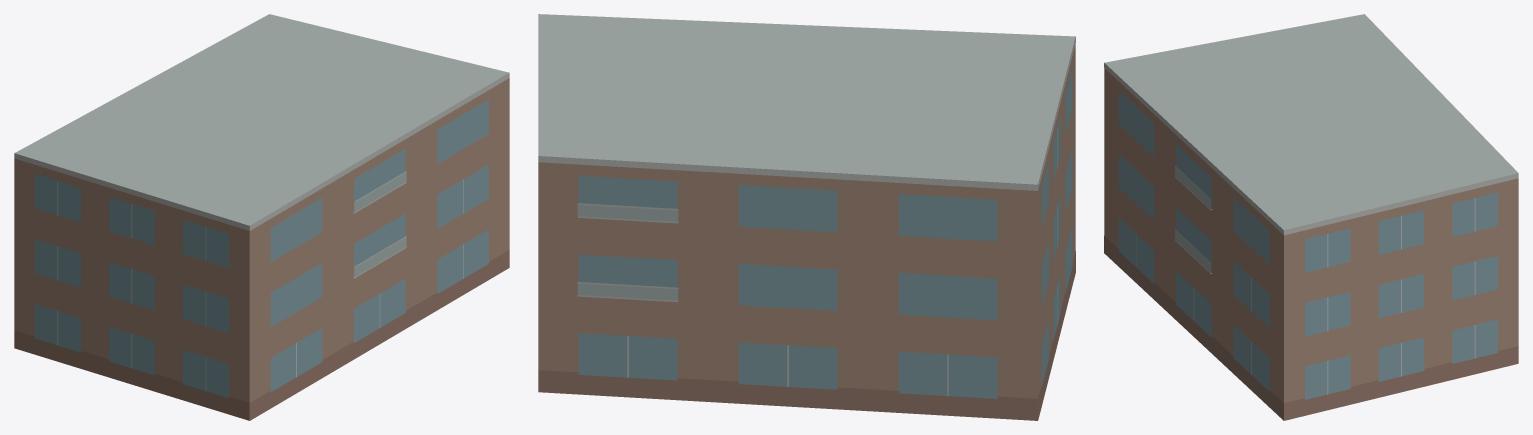
The model's file is survey-upis-32845535.glb.
3 views of the same model, side by side, from view 1: azimuth 30°, elevation 25°; view 2: azimuth 150°, elevation 25°; view 3: azimuth 270°, elevation 25° (orthographic). The views are drawn at different scales.
Parts seen in each view (by area): view 1: survey-upis-32845535.tmp; view 2: survey-upis-32845535.tmp; view 3: survey-upis-32845535.tmp.
Part boxes in pixels (x1,y1,x2,y2): survey-upis-32845535.tmp: [14, 14, 509, 420]; survey-upis-32845535.tmp: [538, 14, 1075, 420]; survey-upis-32845535.tmp: [1104, 14, 1518, 420].
Bounding box in the file's own units: 22.3 × 9.15 × 18.05.
